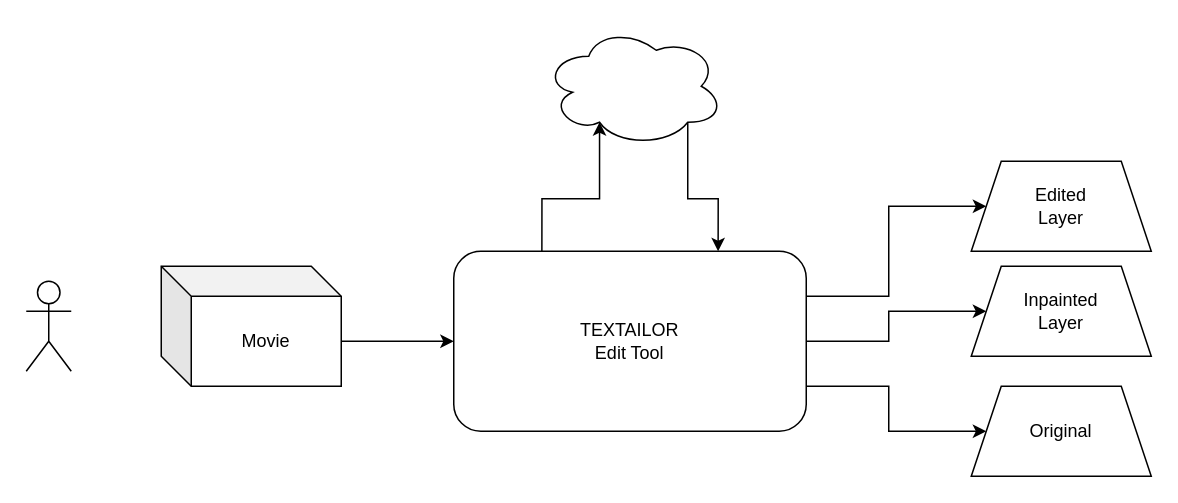
Image size: 1178x503. Some labels were removed from this diagram. The centre of each missing label's shape, as x and y in pixels:
"Actor" belongs at point 48,325.
"Processing Cloud" belongs at point 633,85.
